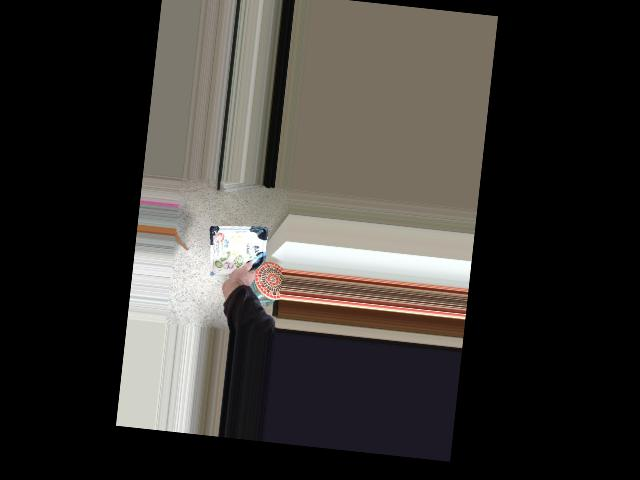cheese: (203, 233, 266, 298)
